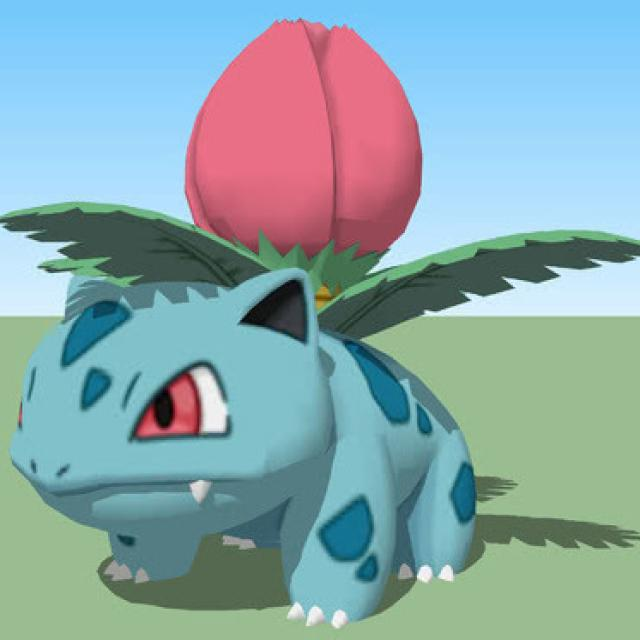Ivysaur: (11, 16, 463, 619)
